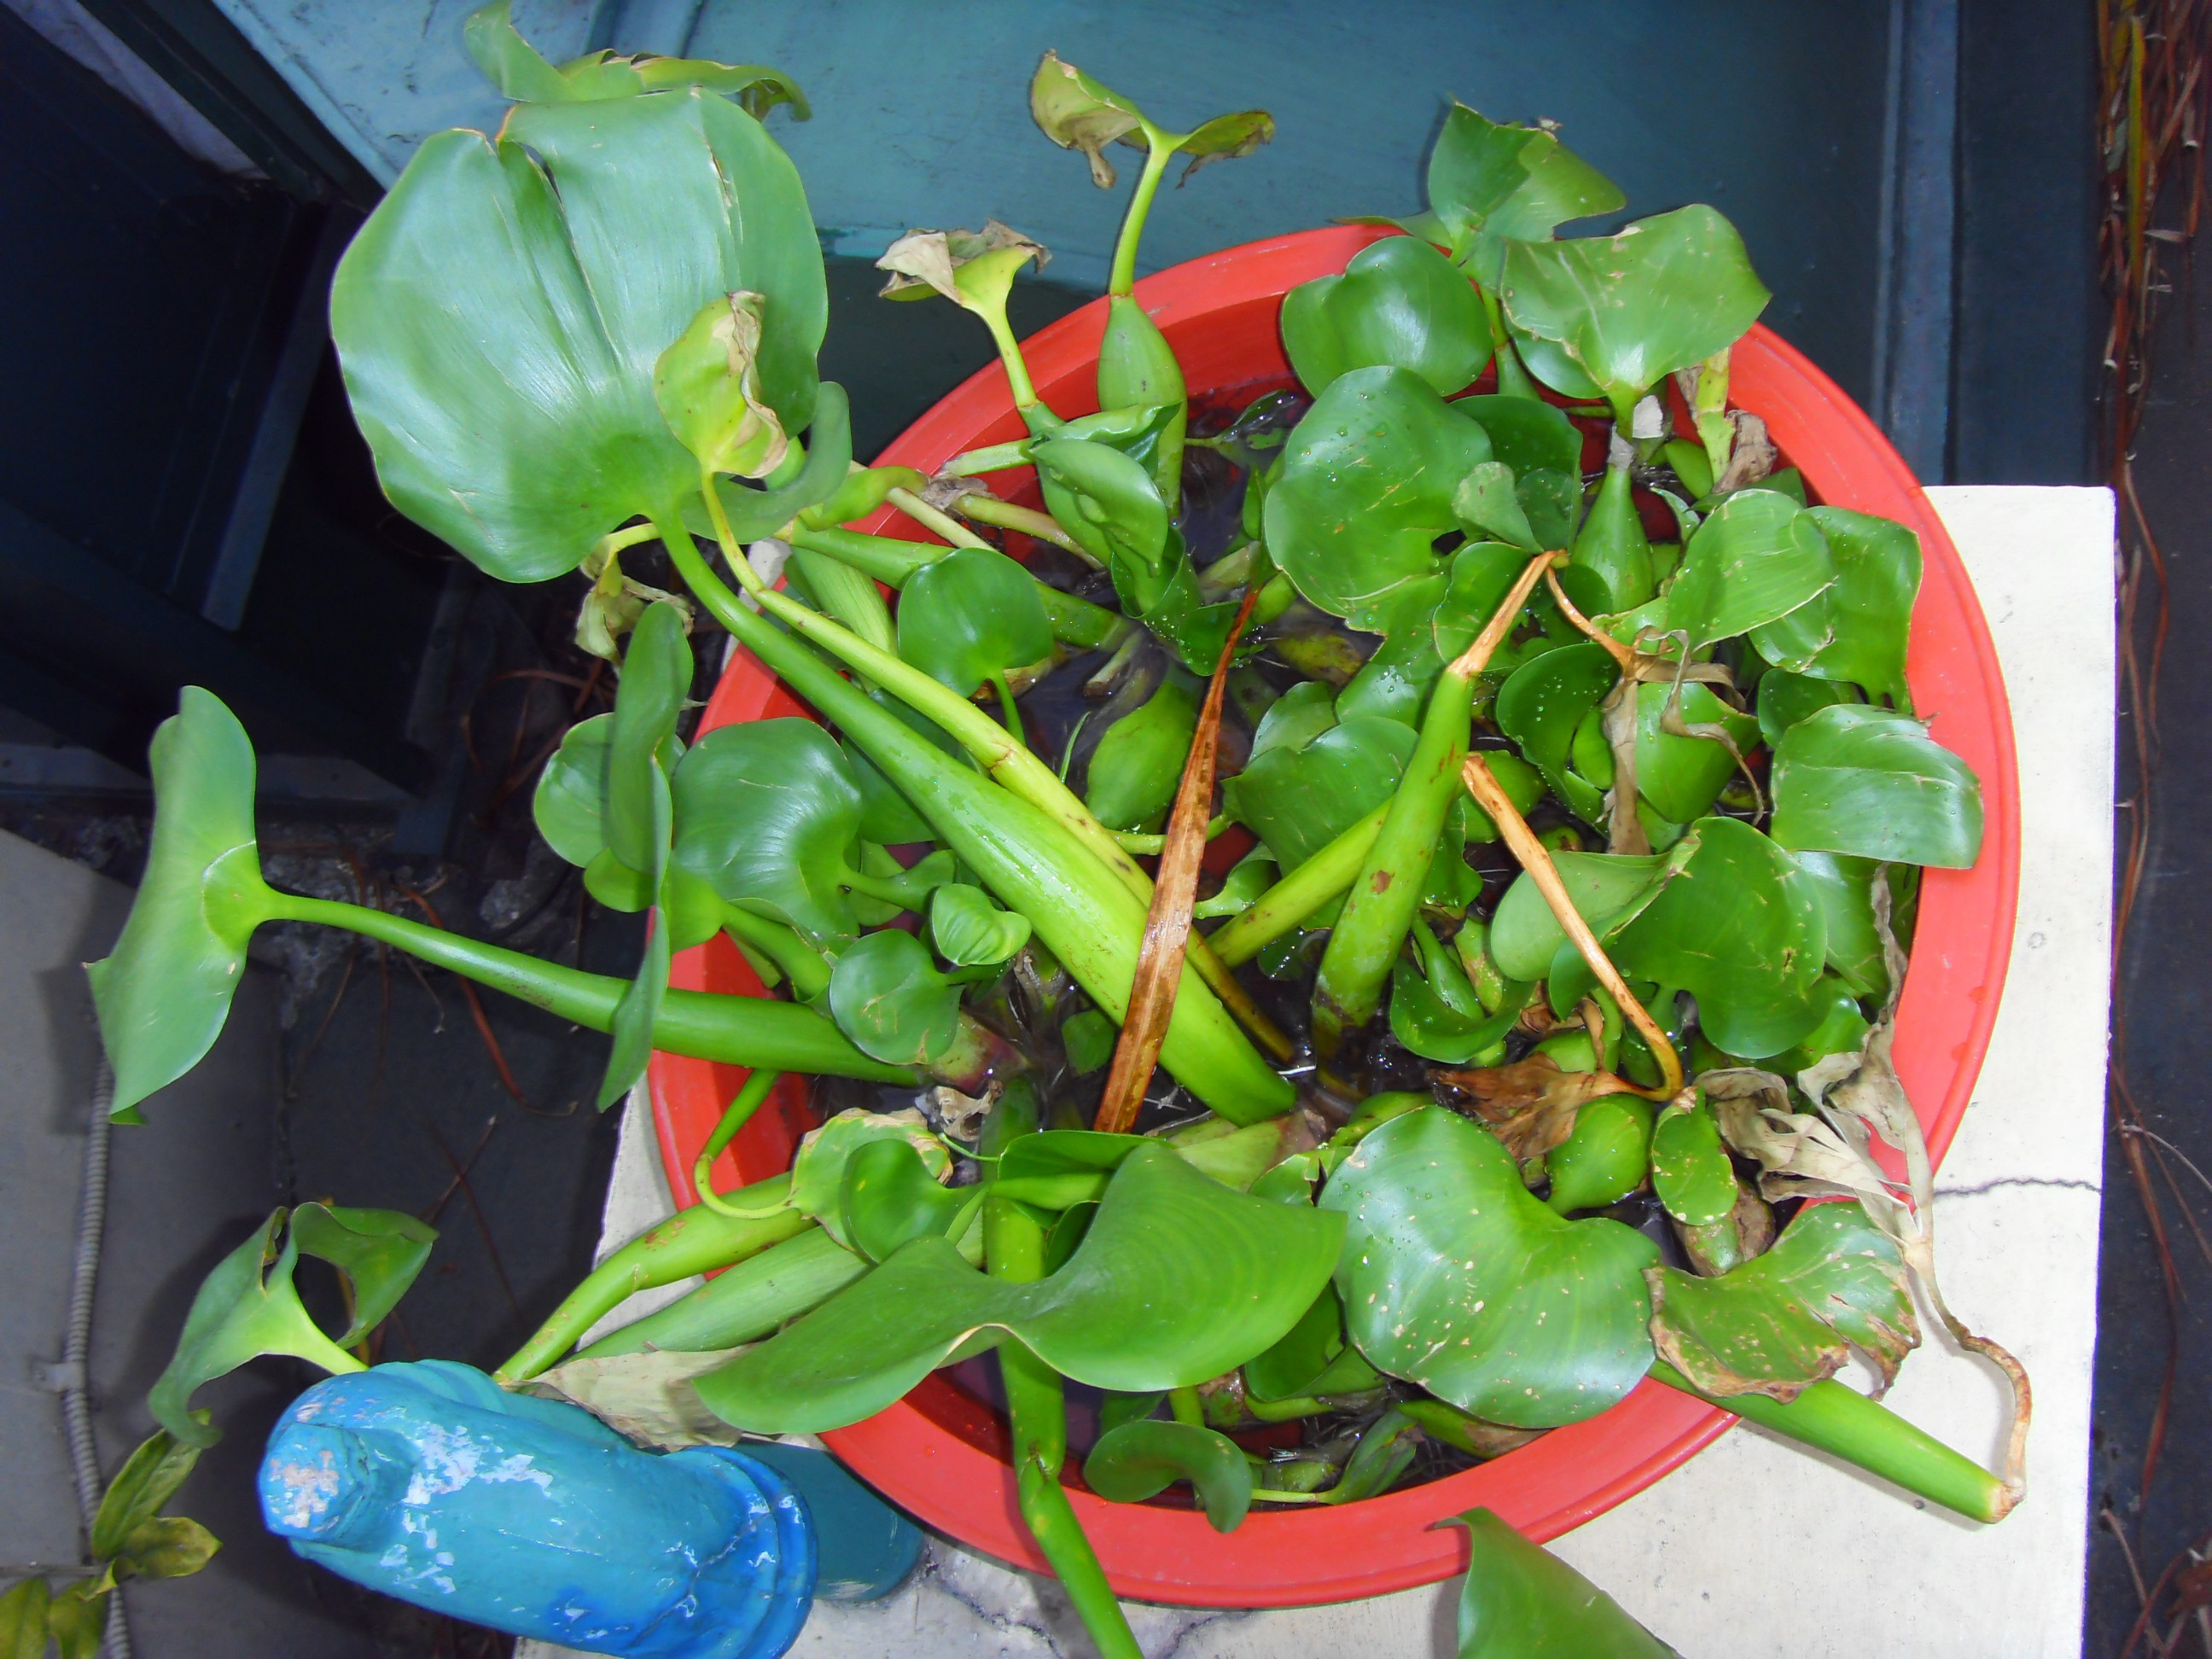water_hyacinth: (78, 5, 2047, 1532)
